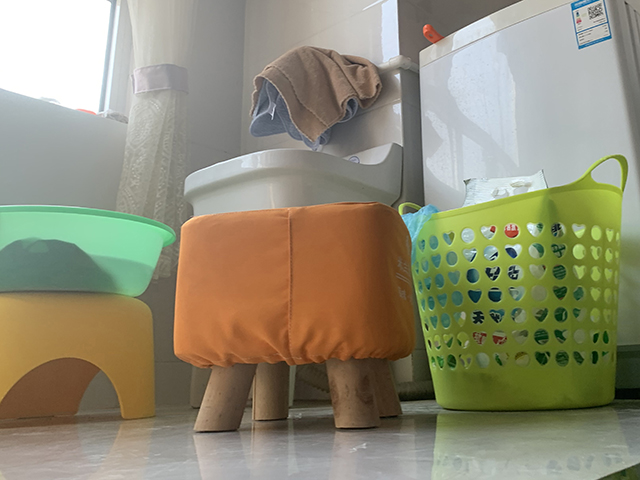stool: (172, 199, 420, 434), (1, 290, 157, 424)
